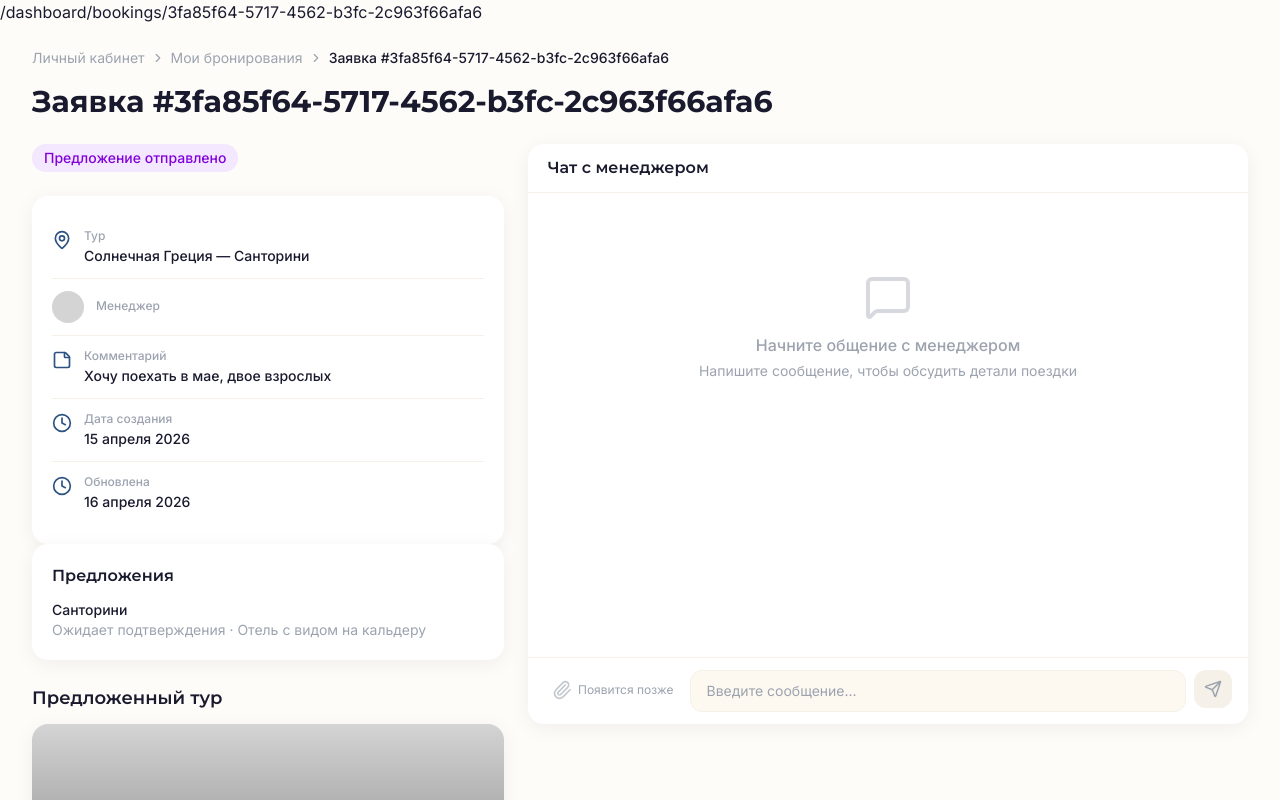
Scenario: manager row on booking pages › без имени в заявке строка остаётся, имя берётся из карточки
expect the text "Марина Иванова" is not shown: met
Click the button "Менеджер" at (68, 307), box [52, 279, 484, 336]
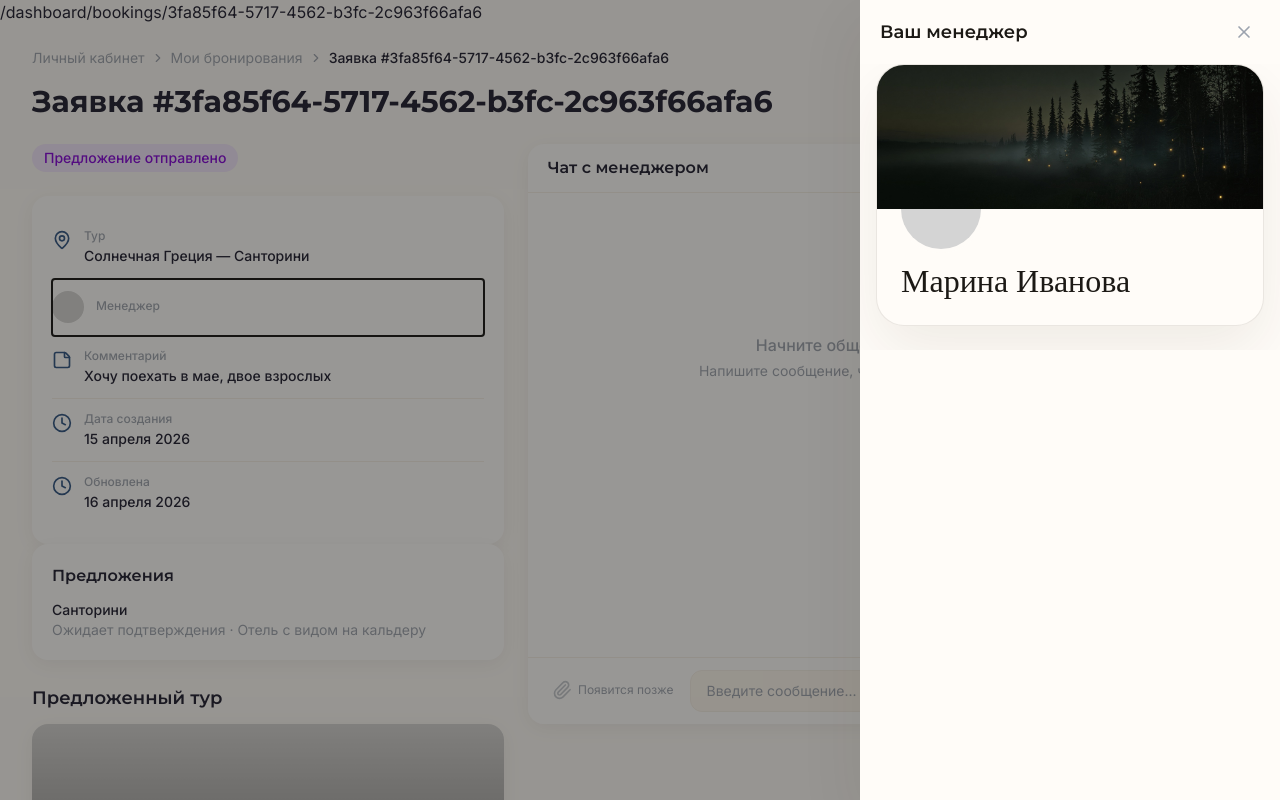
expect the heading "Марина Иванова" is shown: met, box [901, 263, 1130, 299]
